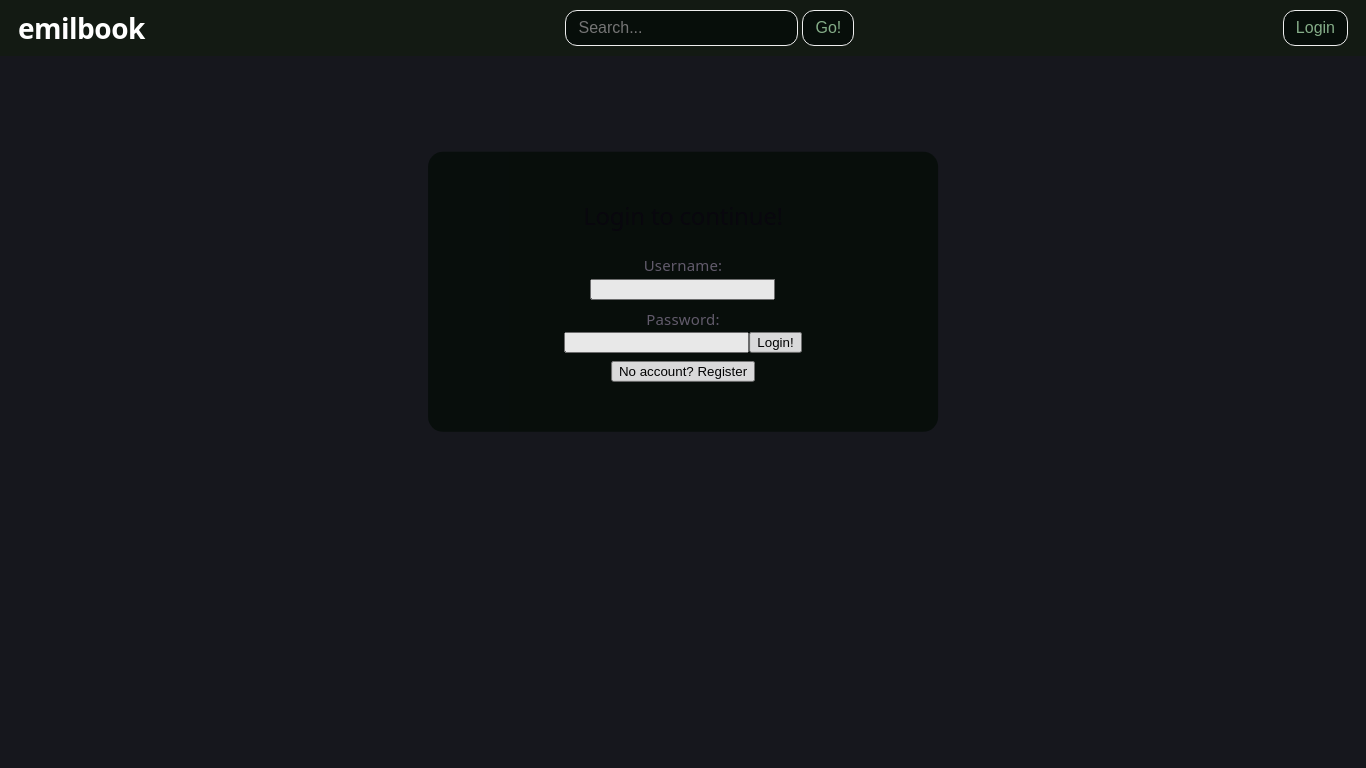
Test: Registrering › registrerar konto och växlar tillbaka till login
The width and height of the screenshot is (1366, 768).
Click the button "No account? Register". click: (683, 372)
box: [611,361,755,382]
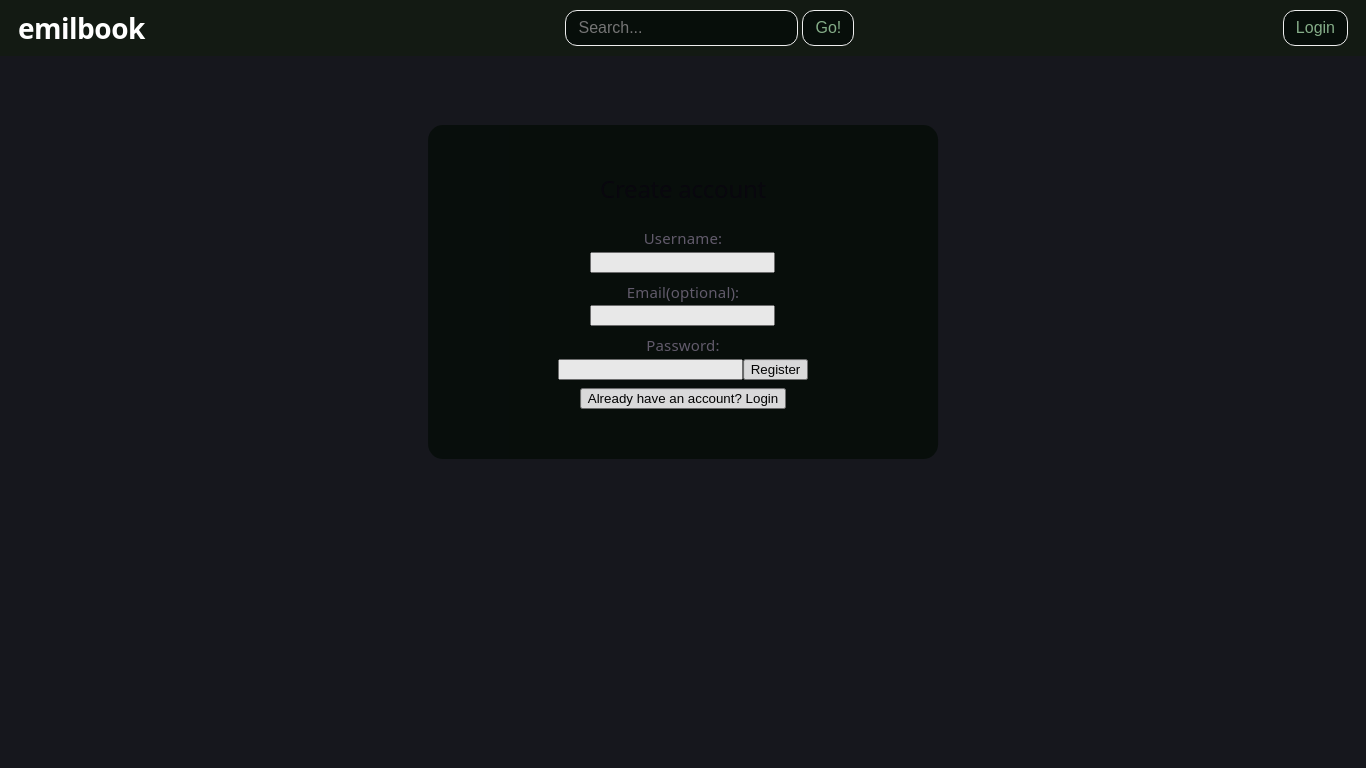
Type "newuser" into the field with id "username". click: (684, 263)
box: [591,252,776,273]
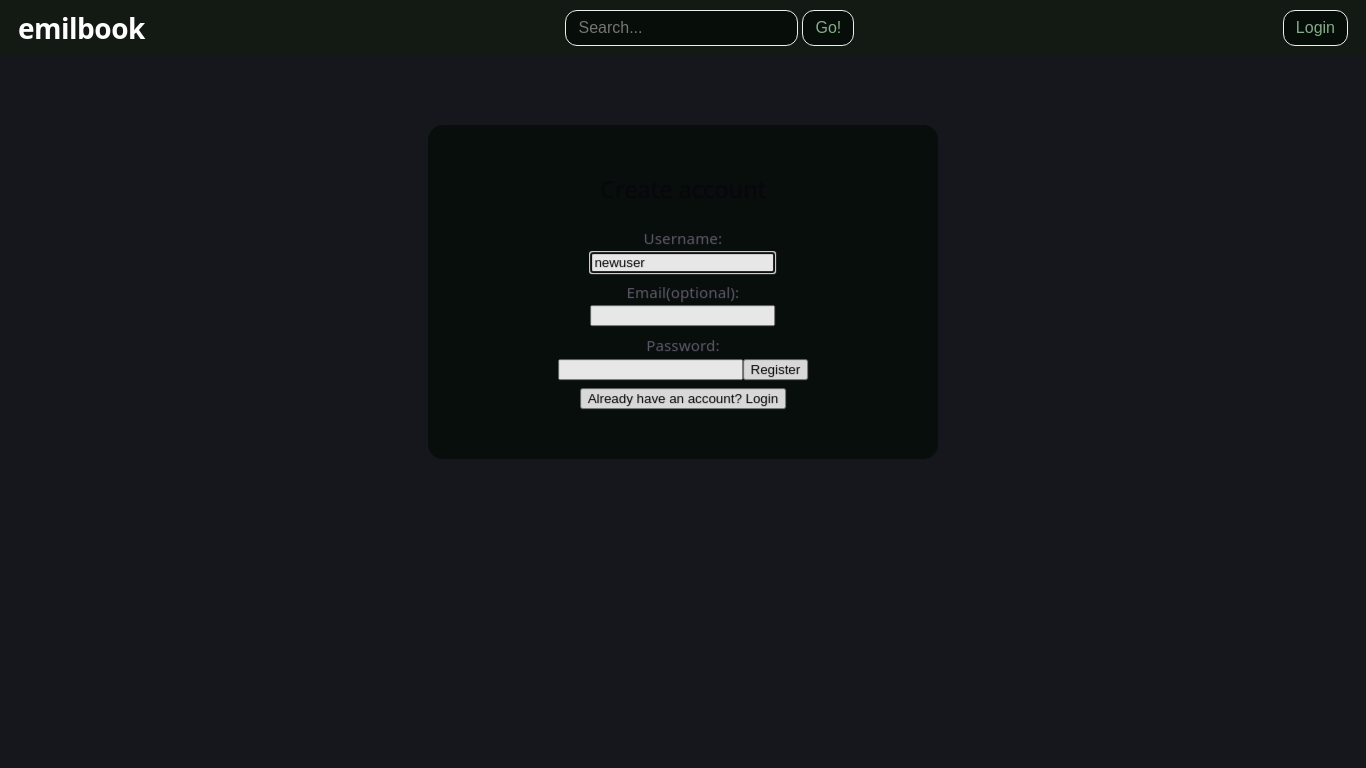
Type "new@example.com" into the field with id "email". click: (684, 316)
box: [591,305,776,326]
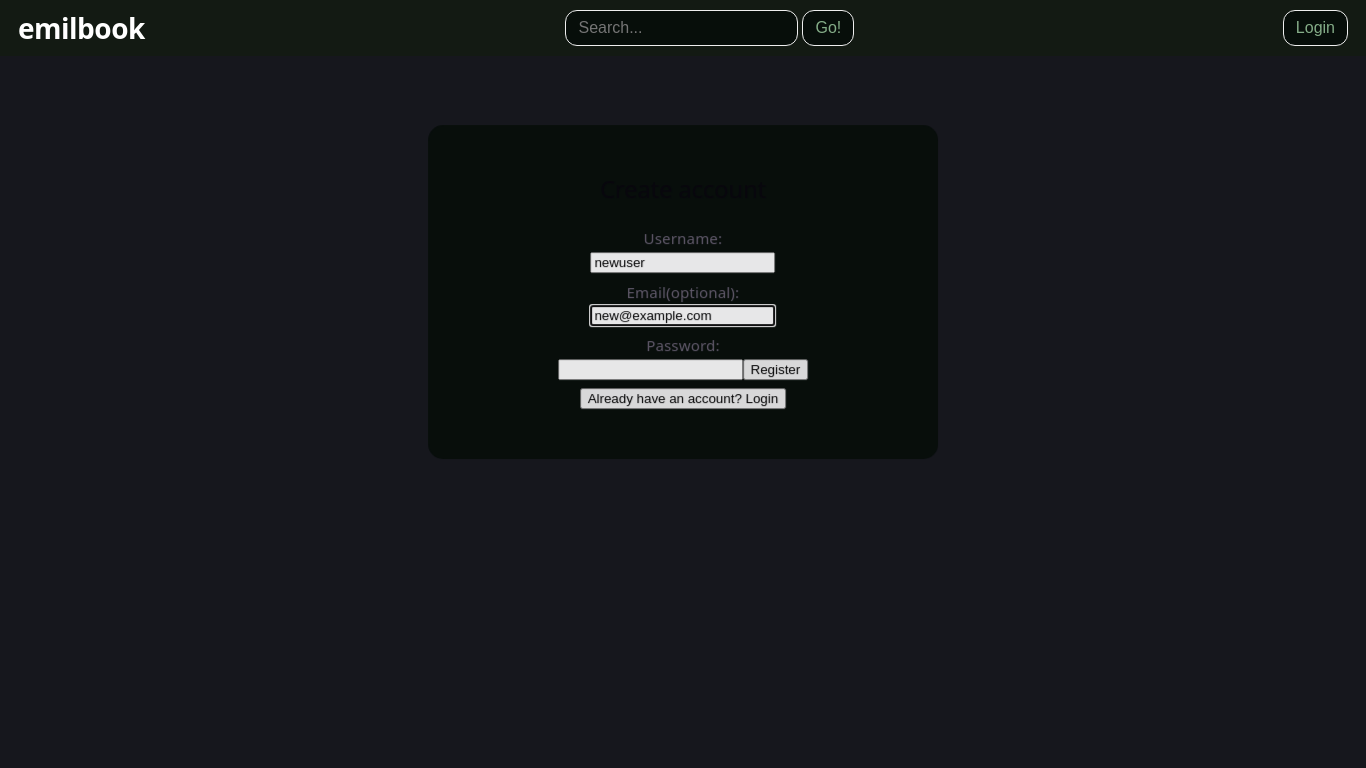
Type "securePass123" into the password field labelled "Password:". click: (651, 370)
box: [558,359,743,380]
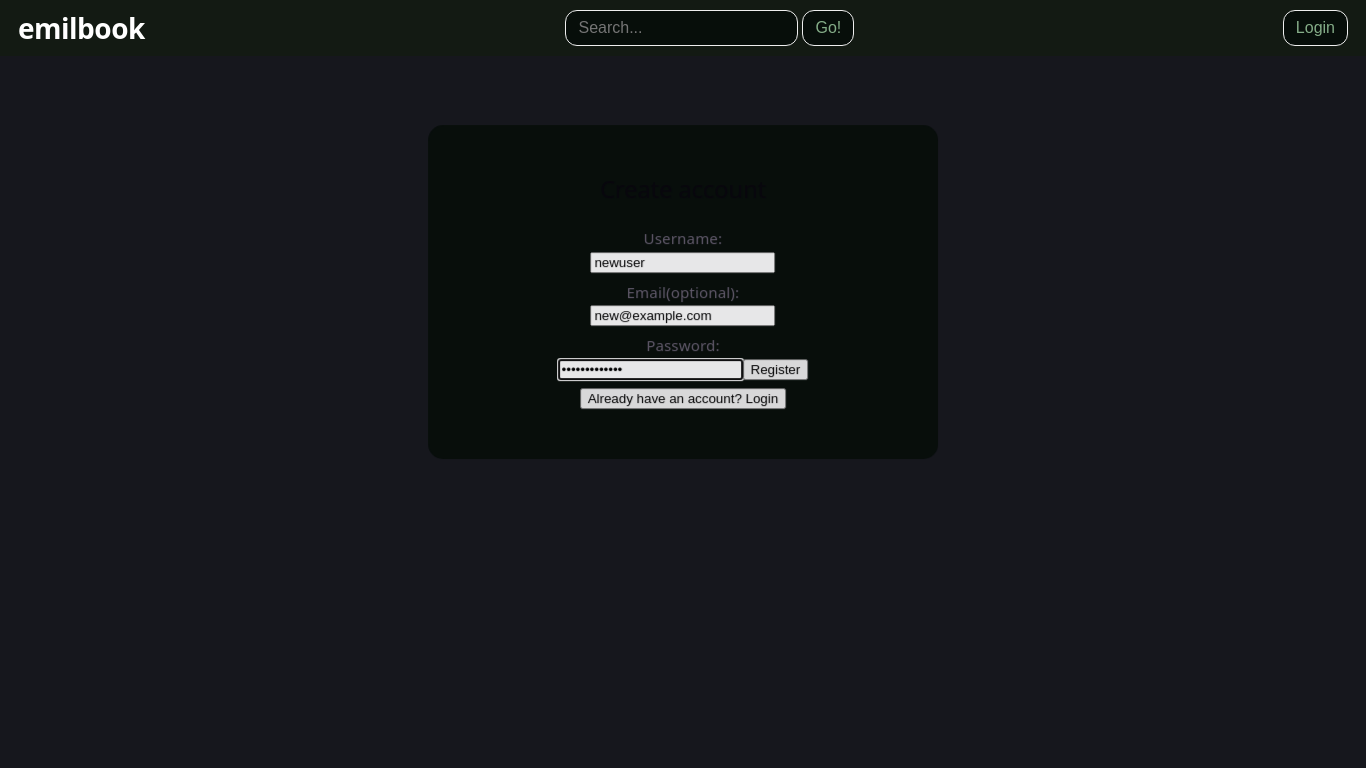
Click the button with class "submit-button". click: (776, 370)
box: [743,359,809,380]
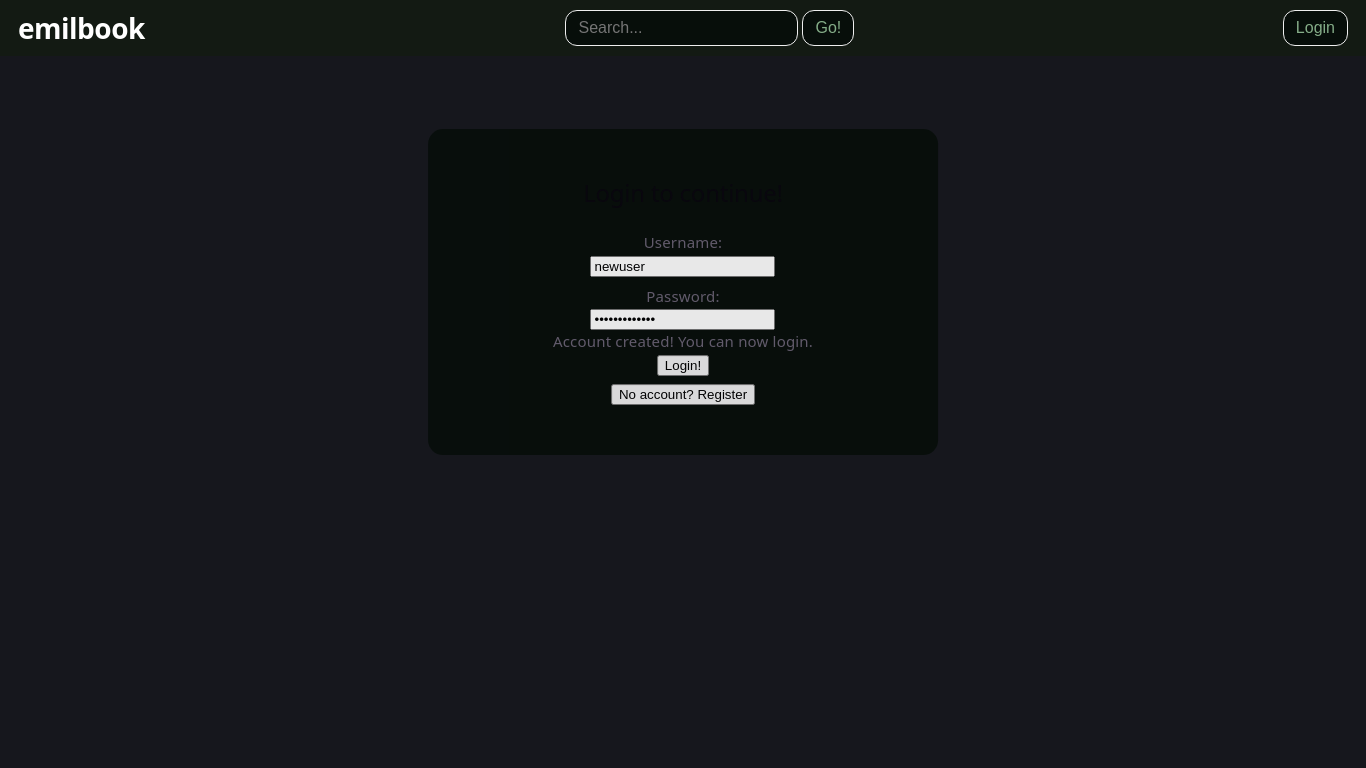
Expected: the text with class "success-message" reads "Account created! You can now login.", [553,331,813,351]
